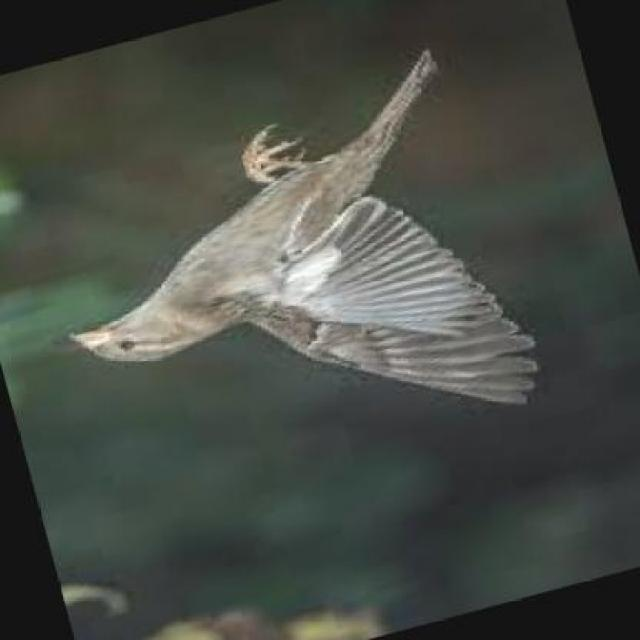Bird: (66, 39, 539, 431)
